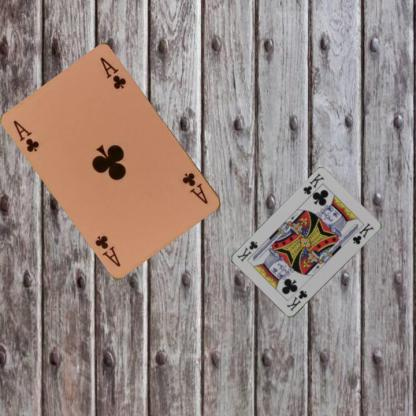Ac: (10, 117, 41, 154), (180, 170, 210, 206)
Kc: (300, 171, 326, 196), (284, 288, 308, 312)
